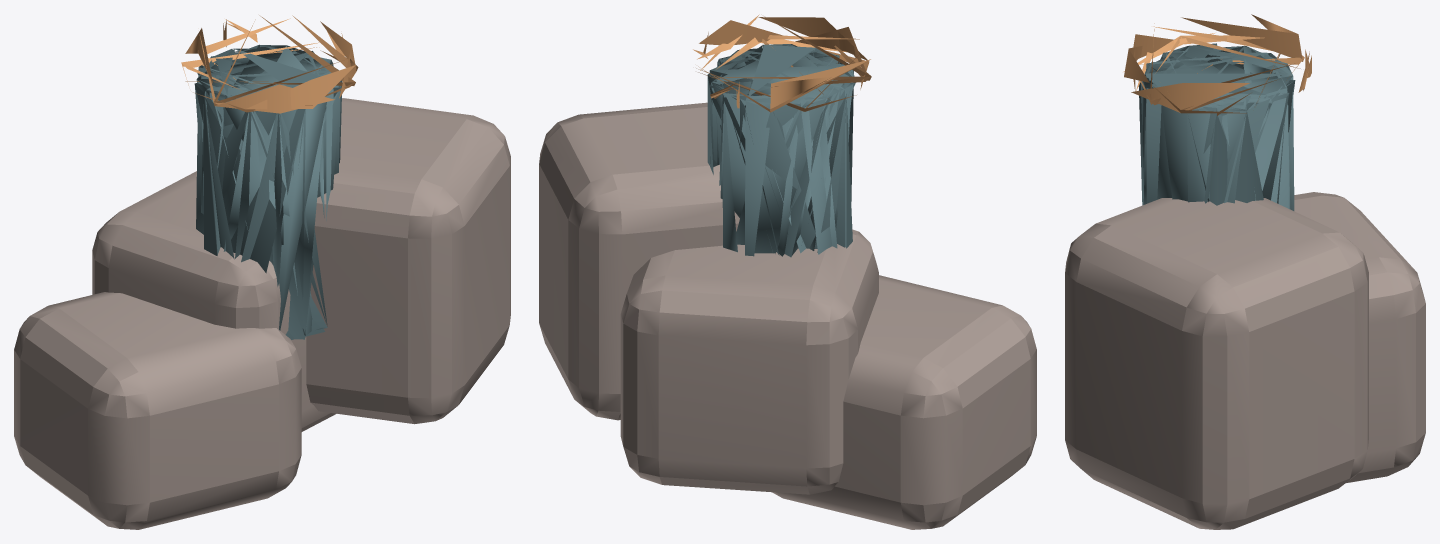
Rendered from region_2.glb.
3 renders of one model, left to right at view 1: azimuth 30°, elevation 25°; view 2: azimuth 150°, elevation 25°; view 3: azimuth 270°, elevation 25°, orthographic. The views are drawn at different scales.
Parts seen in each view (by area): view 1: Surface_RegionStone2, Surface_Iron, Surface_Kiln; view 2: Surface_RegionStone2, Surface_Iron, Surface_Kiln; view 3: Surface_RegionStone2, Surface_Iron, Surface_Kiln.
Part boxes in pixels (x1,y1,x2,y2): Surface_RegionStone2: (14,98,510,529); Surface_Iron: (194,44,342,339); Surface_Kiln: (181,15,358,113); Surface_RegionStone2: (539,102,1036,529); Surface_Iron: (707,44,855,257); Surface_Kiln: (693,14,871,112); Surface_RegionStone2: (1065,192,1425,529); Surface_Iron: (1138,43,1295,210); Surface_Kiln: (1123,14,1311,115).
Bounding box in the file's own units: 1.95 × 1.7 × 1.29.
